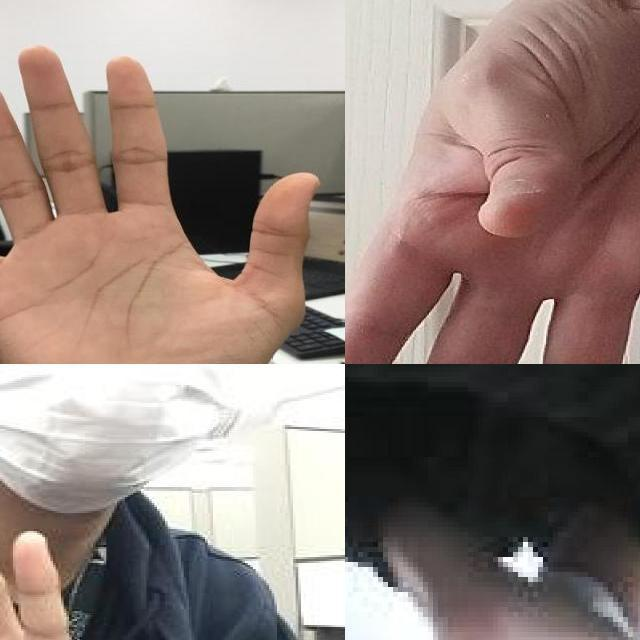no-gloves: (345, 0, 640, 364), (0, 41, 323, 364), (0, 451, 167, 640)
